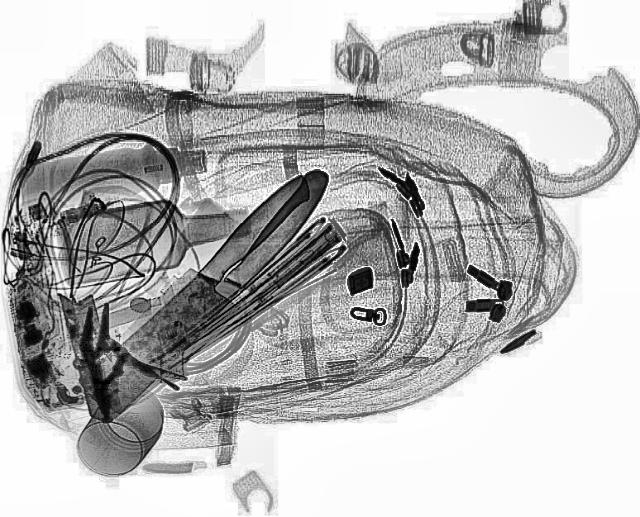Knife: (59, 153, 343, 430), (69, 168, 351, 421)
